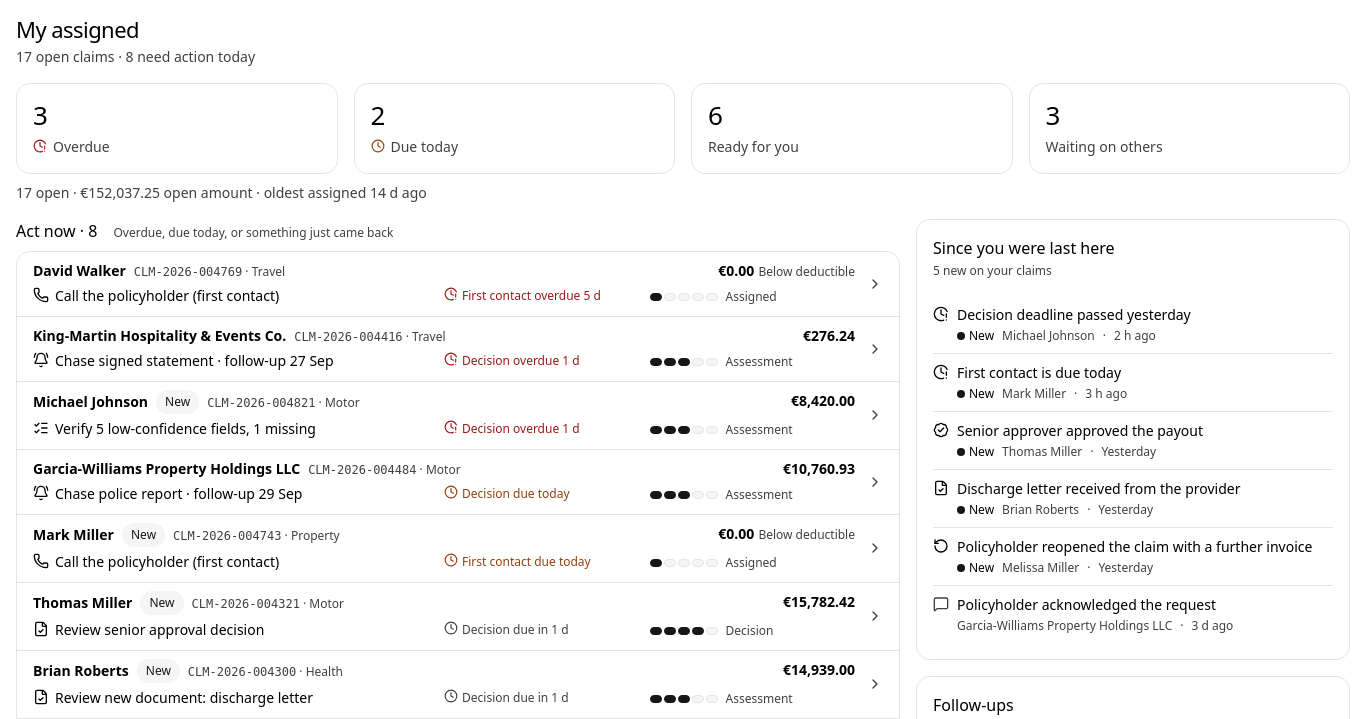
it: MyAssigned › Today strip filters › Waiting on others shows the waiting group, expanded, without claiming all is caught up
Click the button "3 Waiting on others" at (1104, 146), box [1028,83,1350,174]
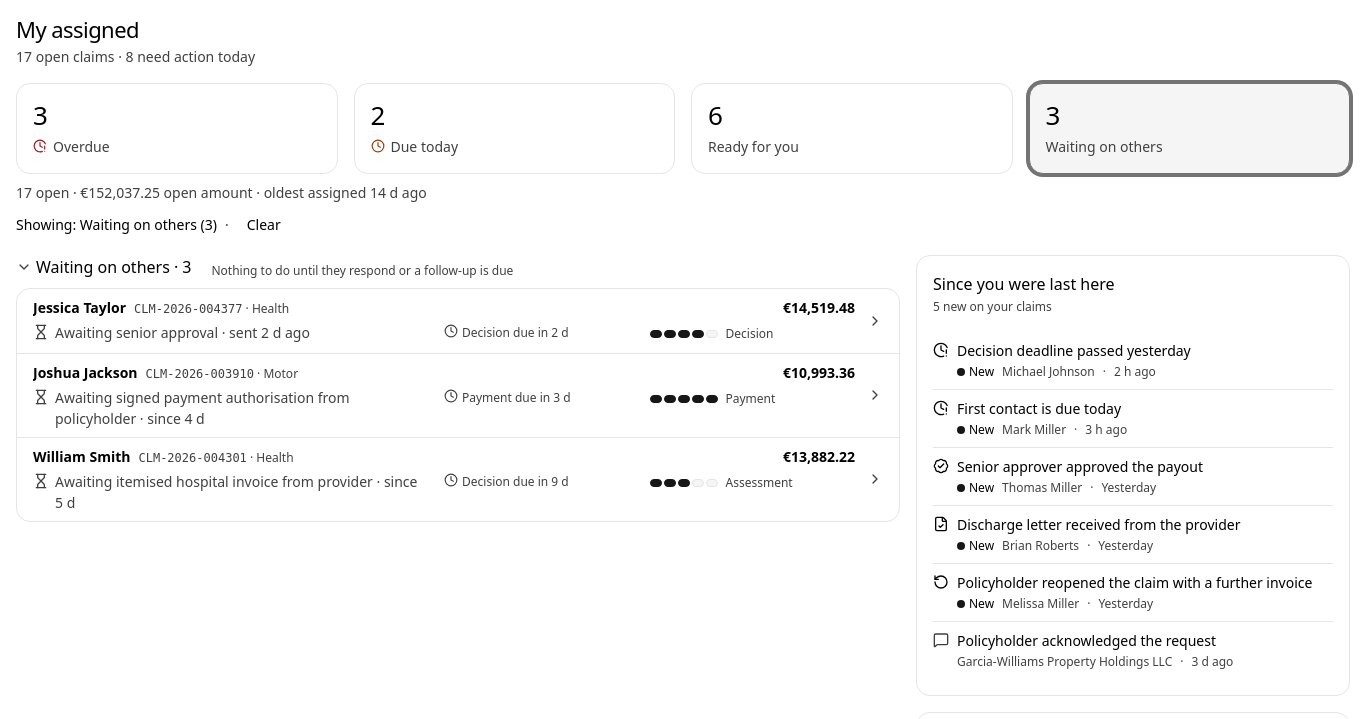
Expected: the button "Waiting on others · 3" is expanded, [12,255,195,279]
